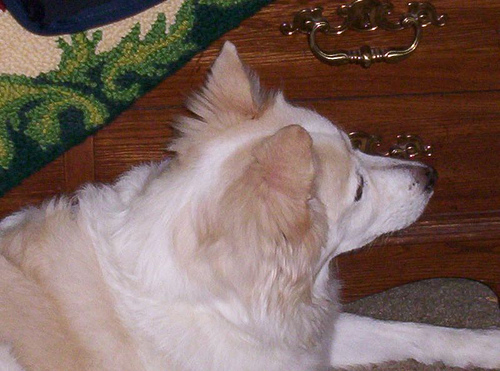dog: (1, 41, 430, 370)
